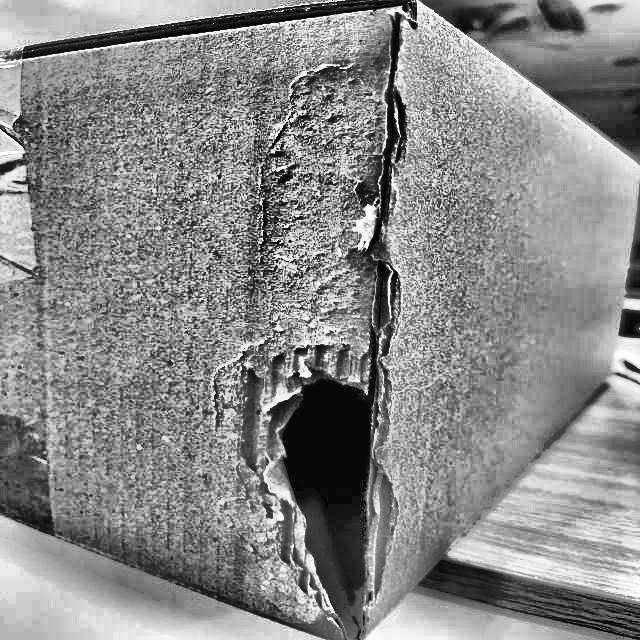box: (0, 6, 640, 634)
hole: (244, 368, 384, 626)
